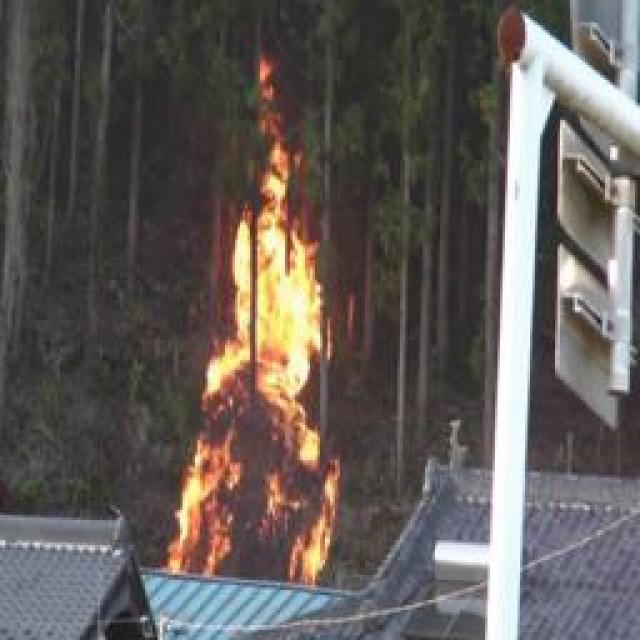Fire: (174, 216, 344, 582)
